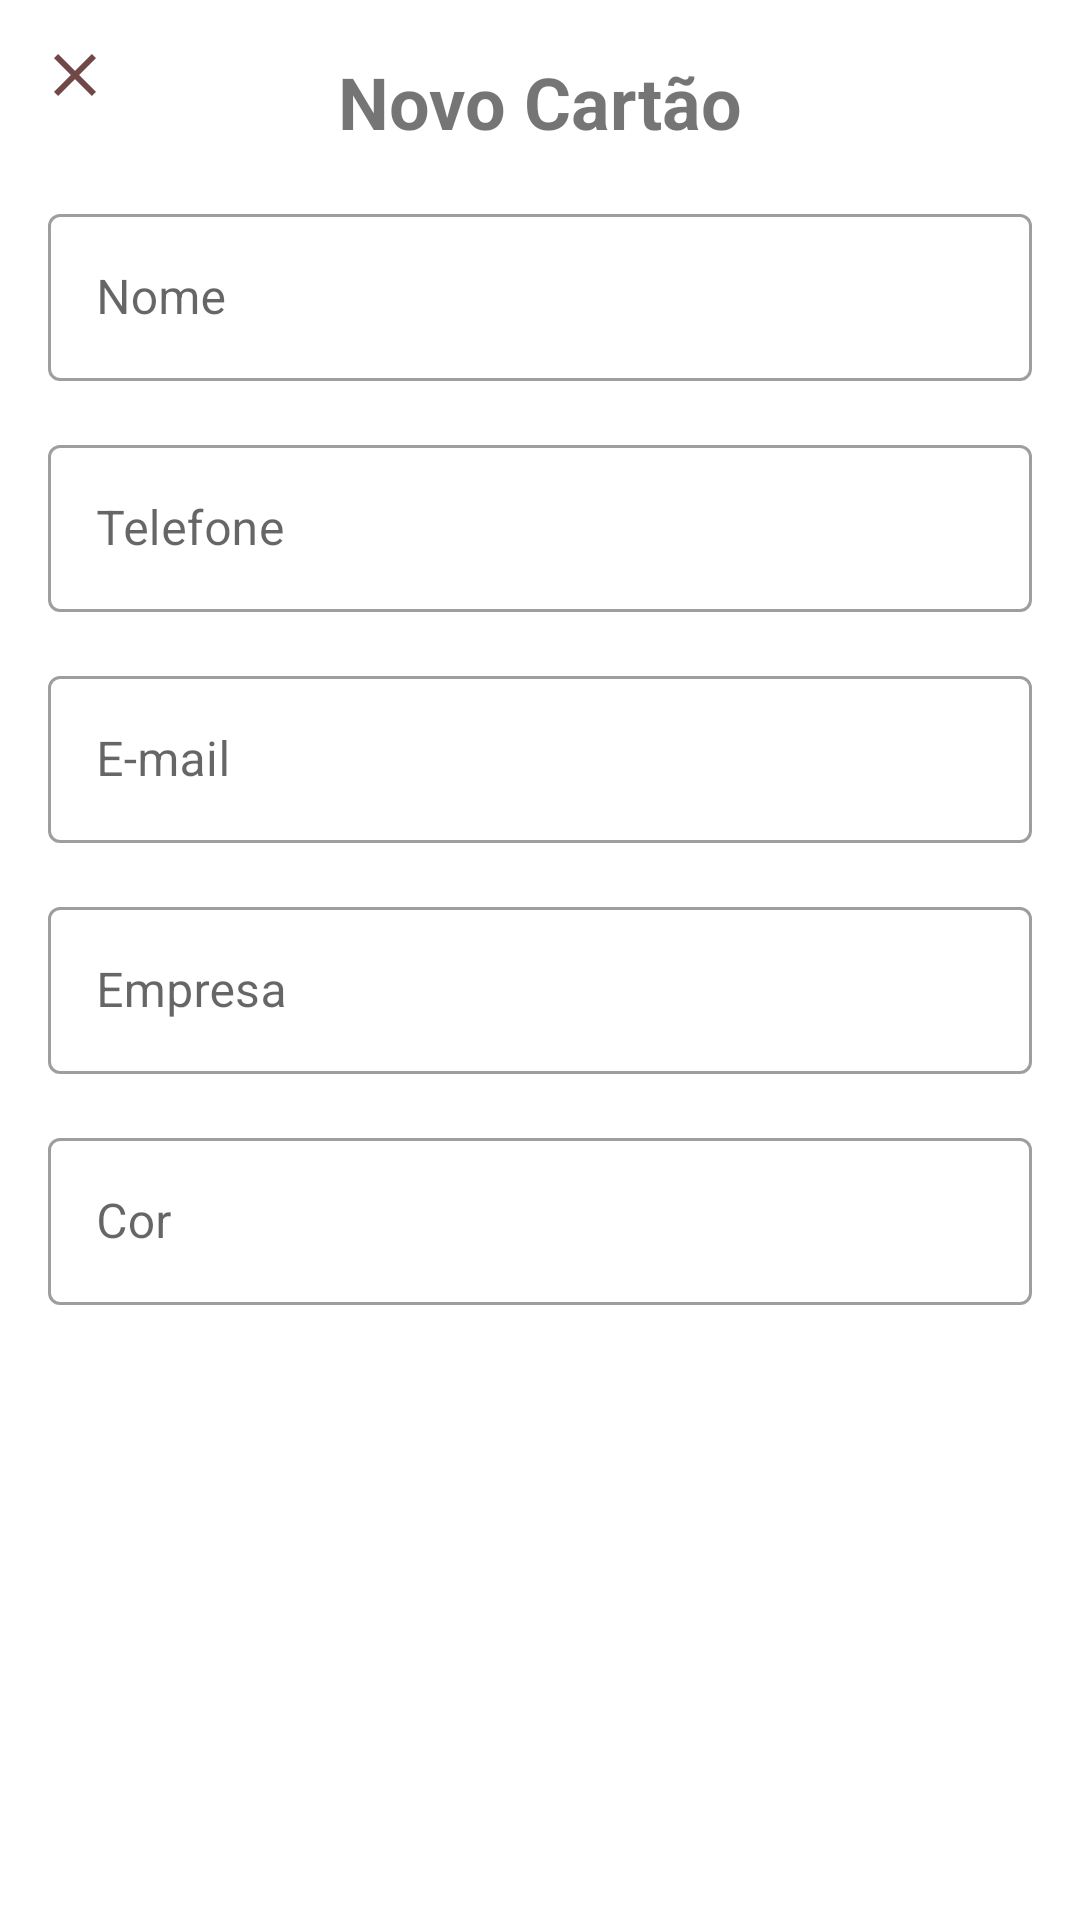

Screen size 1080×1920. Icon name, then its box in pixels as (x1, y1, x2, y2):
close: (54, 54, 96, 96)
